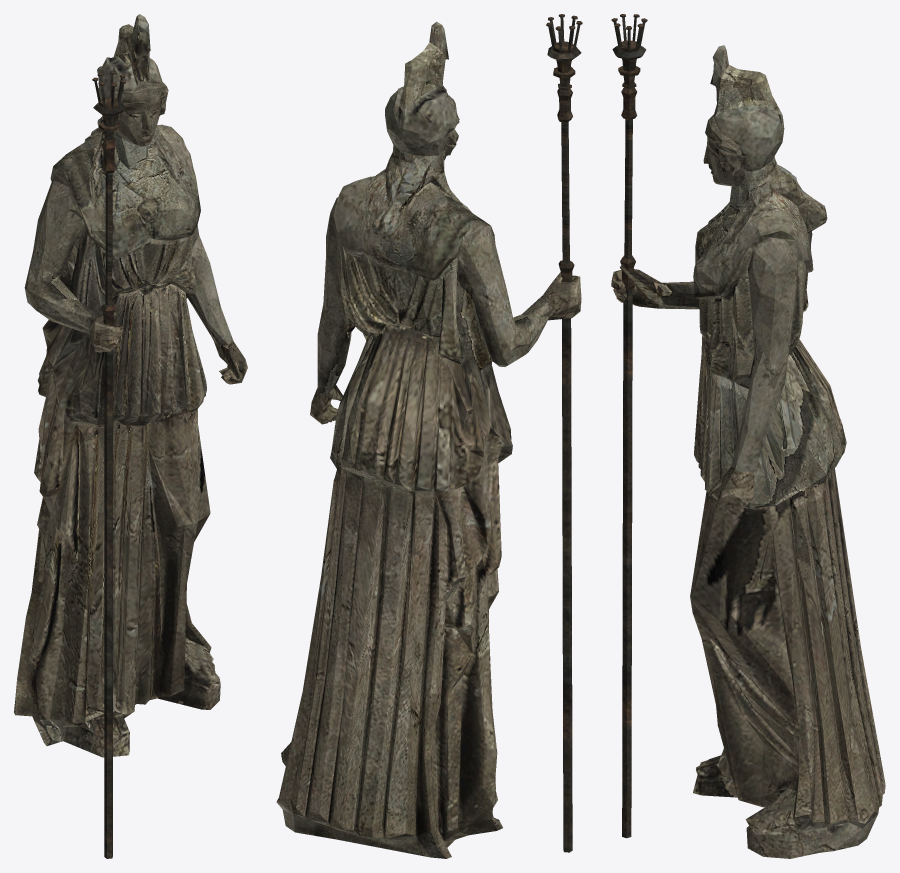
Rendered from HumanStatue.fbx.
3 renders of one model, left to right at view 1: azimuth 30°, elevation 25°; view 2: azimuth 150°, elevation 25°; view 3: azimuth 270°, elevation 25°, orthographic. The views are drawn at different scales.
Visible parts, largest first — view 1: o1301_Mesh; view 2: o1301_Mesh; view 3: o1301_Mesh.
Part boxes in pixels (left/top/right/bottom): o1301_Mesh: left=14, top=14, right=247, bottom=858; o1301_Mesh: left=276, top=14, right=582, bottom=858; o1301_Mesh: left=611, top=14, right=885, bottom=858.
Bounding box in the file's own units: 85.69 × 315 × 94.28.
2 materials, 2 textured.
